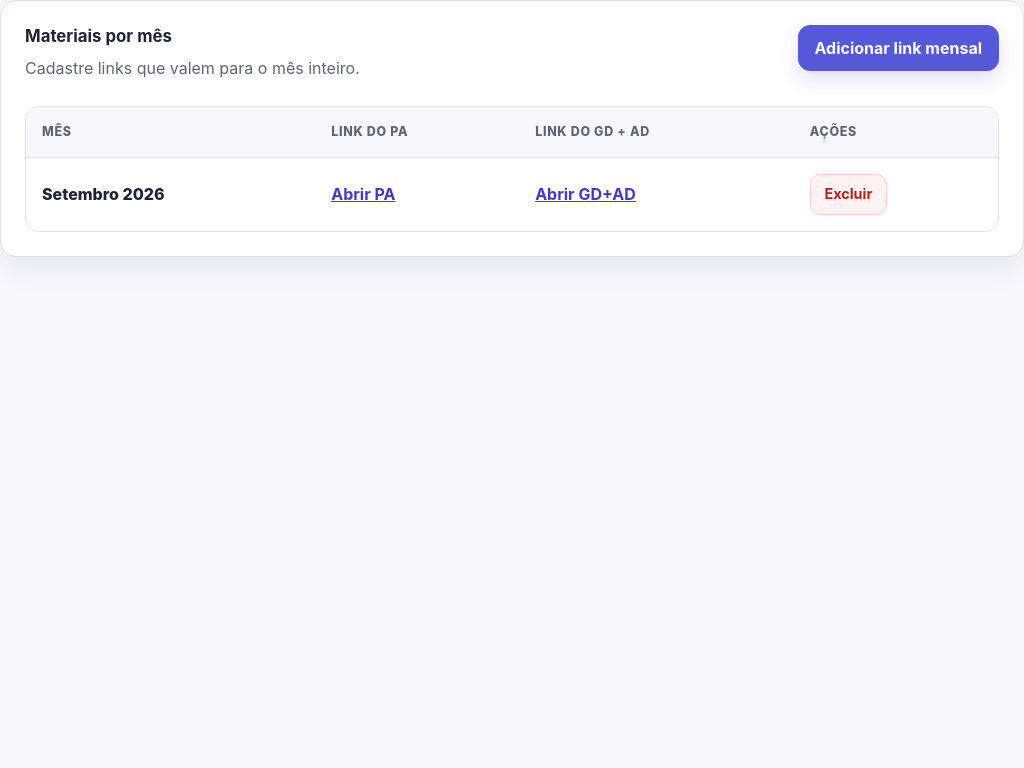
it: formulário dentro do gerenciamento mensal › insere o estado salvo, fecha o formulário e mantém a ordem
Expected: the column heading "Setembro 2026" is shown, [26,158,315,231]
Click the button "Adicionar link mensal" at (898, 48), box [798,25,999,71]
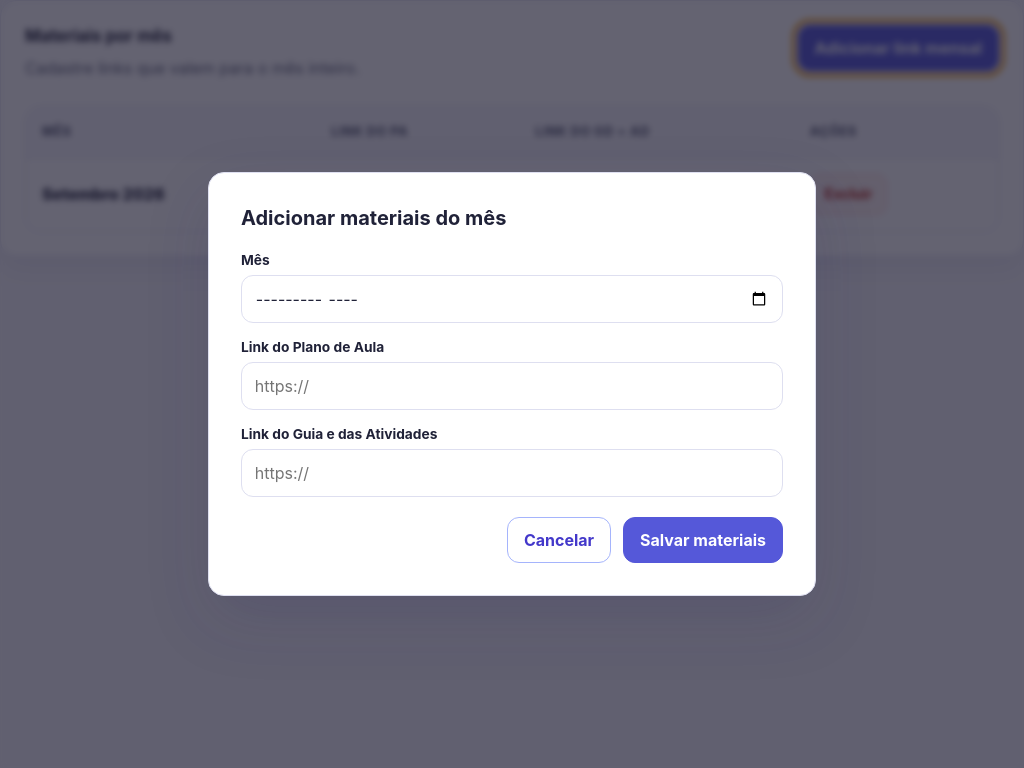
Type "2026-10" into the field labelled "Mês" at (512, 299), box [241,275,783,323]
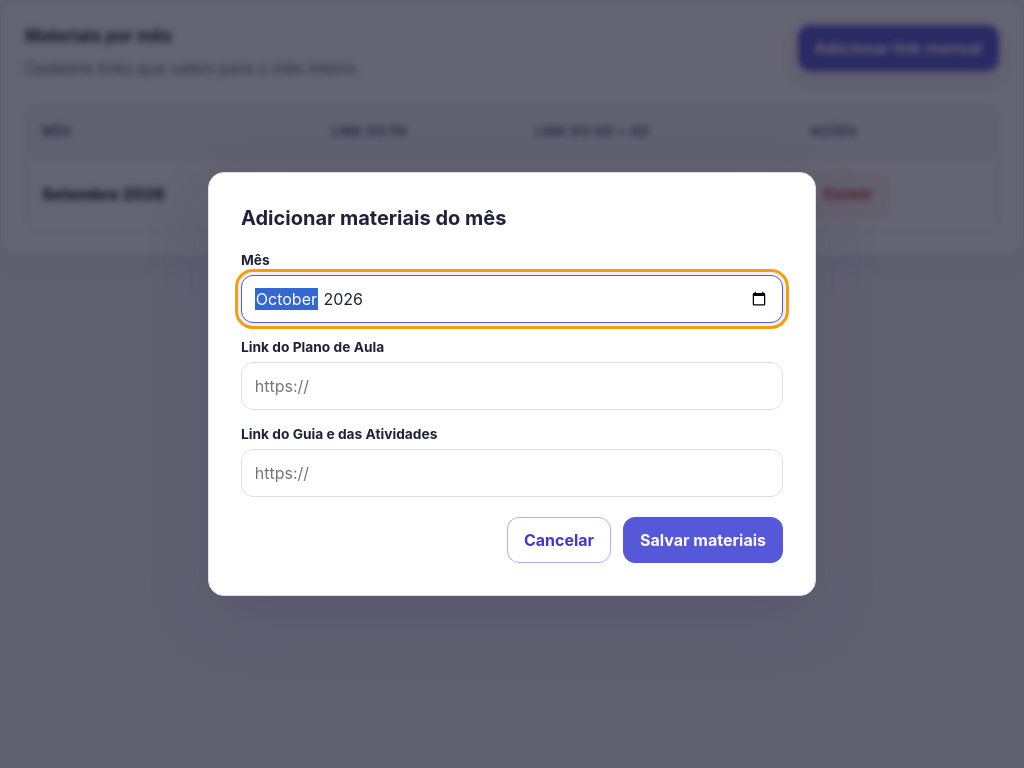
Click the button "Salvar materiais" at (703, 540), box [623,517,783,564]
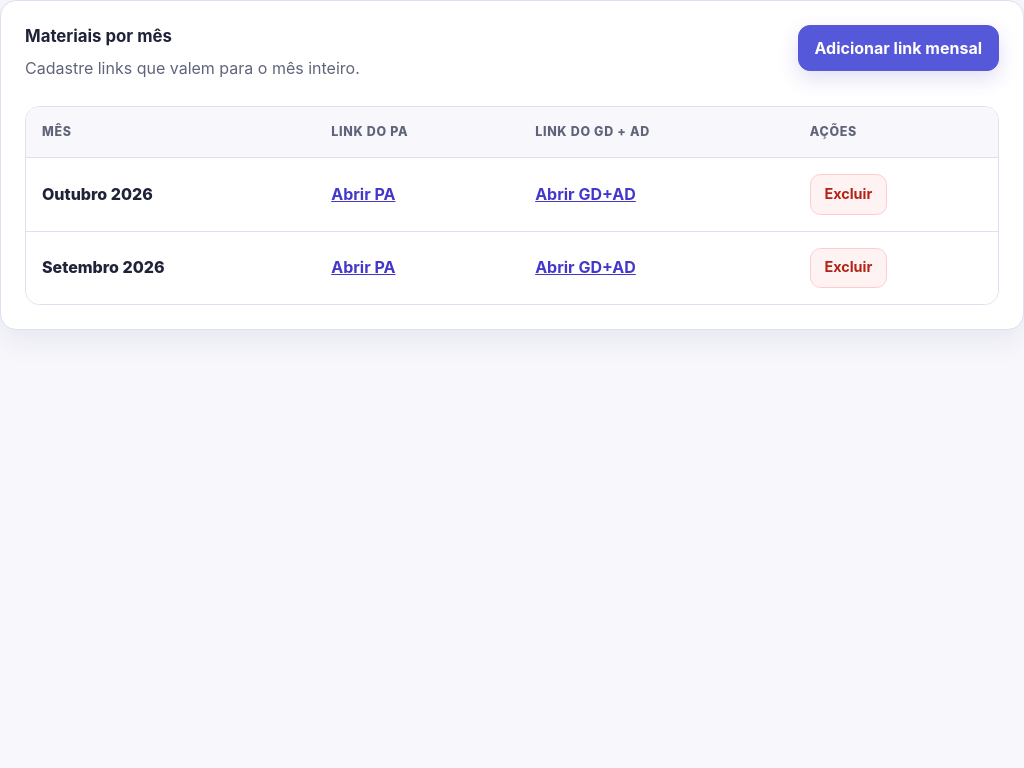
Expected: the row "Setembro 2026 Abrir PA Abrir GD+AD Excluir" is shown, [26,231,998,304]
Expected: the dialog is gone
Expected: the row "Outubro 2026 Abrir PA Abrir GD+AD Excluir" is shown, [26,158,998,231]
